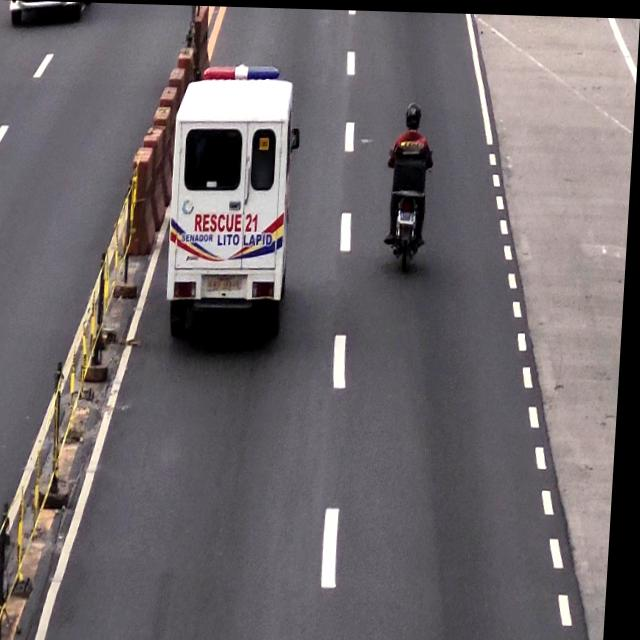Jeep: (170, 67, 295, 345)
License-Plate: (207, 271, 248, 294), (400, 204, 420, 224)
Motorcycle: (385, 98, 435, 273)
